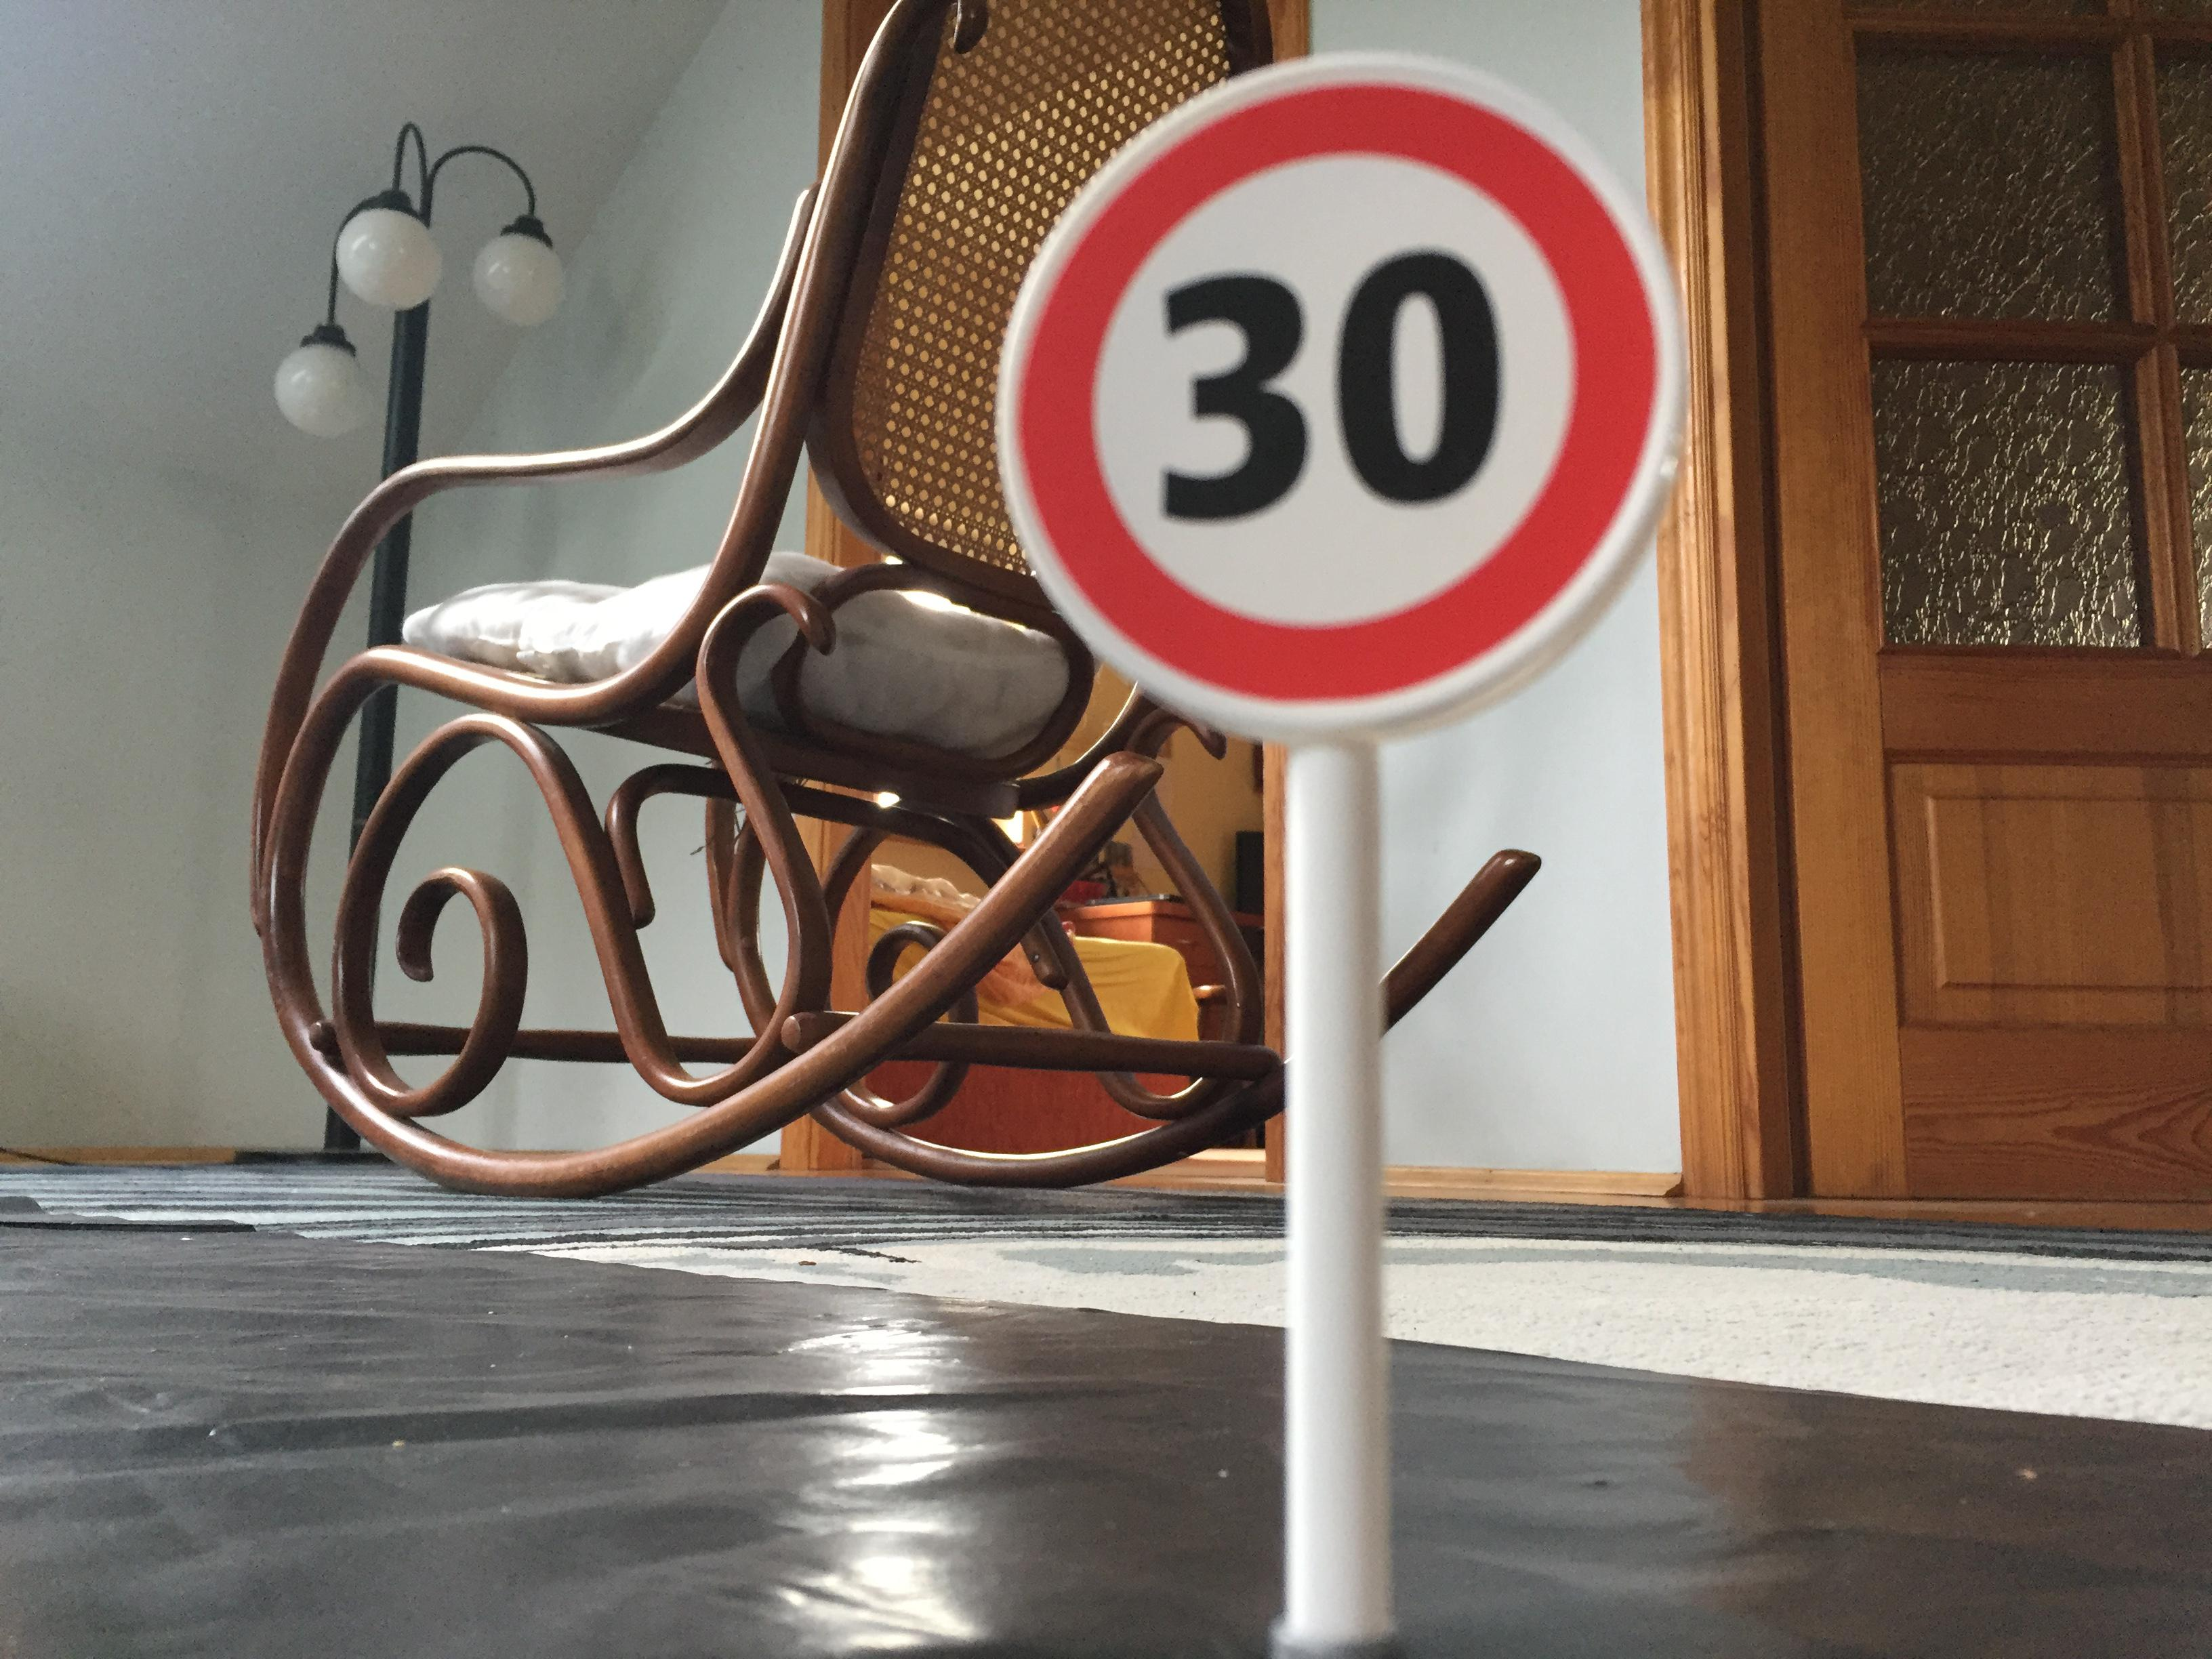speed: (972, 44, 1752, 749)
